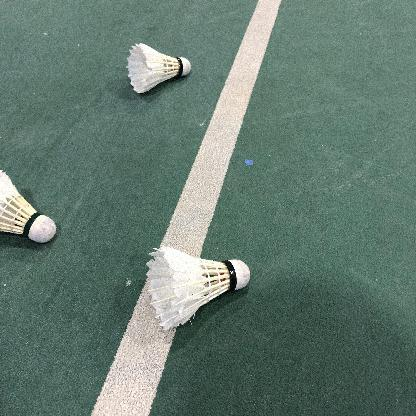ball_single: (146, 247, 250, 330), (0, 170, 56, 243), (126, 43, 191, 93)
